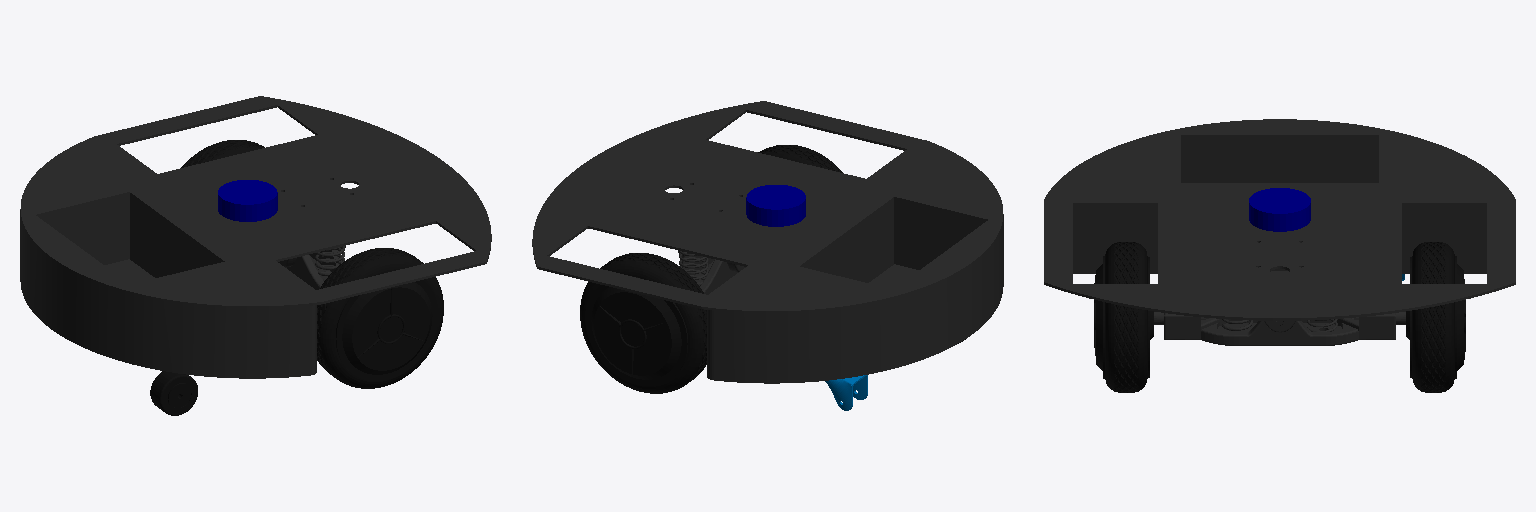
robot.urdf — Bobert:
<?xml version='1.0' ?>
<robot xmlns:xacro="http://www.ros.org/wiki/xacro" name="Bobert">

    <material name="grey">
        <color rgba="0.2 0.2 0.2 1"/>
    </material>

    <material name="green">
        <color rgba="0 0.6 0 0.7"/>
    </material>
    
    <material name="white">
        <color rgba="1 1 1 0.7"/>
    </material>

    <material name="Black">
        <color rgba="0.1 0.1 0.1 1"/>
    </material>

    
    <material name="orange">
        <color rgba="1 0.38 0.27 1"/>
    </material>

    <material name="blue">
        <color rgba="0 0 0.55 1"/>
    </material>


    <link name="base_link">
        <inertial>
            <origin xyz="-43.547e-03 -0.033e-03 -46.787e-03" rpy="0.0 0.0 0.0" />
            <mass value="11.793993" />
            <inertia ixx="1.697e-01" iyy="1.958e-01" izz="3.335e-01" ixy="49603.106e-09" iyz="-836.534e-09" ixz="-1.095e-02" />
        </inertial>
        <visual name="base_link_visual">
            <origin xyz="0.0 0.0 0.0" rpy="0.0 0.0 0.0" />
            <geometry>
                <mesh filename="package://robot_description/meshes/base_link.stl" scale="0.001 0.001 0.001" />
            </geometry>
            <material name="grey"/>
        </visual>
        <collision name="base_link_collision">
            <origin xyz="0.0 0.0 0.0" rpy="0.0 0.0 0.0" />
            <geometry>
                <mesh filename="package://robot_description/meshes/base_link.stl" scale="0.001 0.001 0.001" />
            </geometry>
        </collision>
    </link>



    <link name="wheel_left_link">
        <inertial>
            <origin xyz="0 0 -1.819e-03" rpy="0.0 -0.0 0.0" />
            <mass value="2911.821e-3" />
            <inertia ixx="3.948e-03" iyy="3.948e-03" izz="6.576e-03" ixy="-21.63e-09" iyz="0.131e-09" ixz="-0.705e-09" />
        </inertial>
        <visual name="wheel_left_visual">
            <origin xyz="0 0 0" rpy="0 0 0" />
            <geometry>
                <mesh filename="package://robot_description/meshes/wheel_left.stl" scale="0.001 0.001 0.001" />
            </geometry>
            <material name="Black"/>
        </visual>
        <collision name="wheel_left_collision">
            <origin xyz="0 0 0" rpy="0 0 0" />
            <geometry>
                <mesh filename="package://robot_description/meshes/wheel_left.stl" scale="0.001 0.001 0.001" />
            </geometry>
        </collision>
    </link>




    <link name="wheel_rigth_link">
        <inertial>
            <origin xyz="0 0 1.819e-3" rpy="0.0 -0.0 0.0" />
            <mass value="2.91188" />
            <inertia ixx="3.948e-03" iyy="3.948e-03" izz="6.576e-03" ixy="-11.421e-09" iyz="10.676e-09" ixz="9.896e-09" />
        </inertial>
        <visual name="wheel_rigth_visual">
            <origin xyz="0 0 0" rpy="0 0 0" />
            <geometry>
                <mesh filename="package://robot_description/meshes/wheel_rigth.stl" scale="0.001 0.001 0.001" />
            </geometry>
            <material name="Black"/>
        </visual>
        <collision name="wheel_rigth_collision">
            <origin xyz="0 0 0" rpy="0 0 0" />
            <geometry>
                <mesh filename="package://robot_description/meshes/wheel_rigth.stl" scale="0.001 0.001 0.001" />
            </geometry>
        </collision>
    </link>   



    
    <link name="rotatori_suport_left_link">
        <inertial>
            <origin xyz="16.428e-03 0 21.621e-03" rpy="0.0 -0.0 0.0" />
            <mass value="43.579e-03" />
            <inertia ixx="17929.773e-09" iyy="18956.841e-09" izz="23058.383e-09" ixy="-1.053e-09" iyz="0.047e-09" ixz="-5350.102e-09" />
        </inertial>
        <visual name="rotatori_suport_left_visual">
            <origin xyz="0 0 0" rpy="0 0 0" />
            <geometry>
                <mesh filename="package://robot_description/meshes/rotatory_suport_left.stl" scale="0.001 0.001 0.001" />
            </geometry>
        </visual>
        <collision name="rotatori_suport_left_collision">
            <origin xyz="0 0 0" rpy="0 0 0" />
            <geometry>
                <mesh filename="package://robot_description/meshes/rotatory_suport_left.stl" scale="0.001 0.001 0.001" />
            </geometry>
        </collision>
    </link> 



    <link name="rotatori_suport_rigth_link">
        <inertial>
            <origin xyz="16.428e-03 0 21.621e-03" rpy="0.0 0 0.0" />
            <mass value="43.579e-03" />
            <inertia ixx="17929.773e-09" iyy="18956.841e-09" izz="23058.383e-09" ixy="-1.053e-09" iyz="0.047e-09" ixz="-5350.102e-09" />
        </inertial>
        <visual name="rotatori_suport_rigth_visual">
            <origin xyz="0 0 0" rpy="0 0 0" />
            <geometry>
                <mesh filename="package://robot_description/meshes/rotatory_suport_rigth.stl" scale="0.001 0.001 0.001" />
            </geometry>
        </visual>
        <collision name="rotatori_suport_rigth_collision">
            <origin xyz="0 0 0" rpy="0 0 0" />
            <geometry>
                <mesh filename="package://robot_description/meshes/rotatory_suport_rigth.stl" scale="0.001 0.001 0.001" />
            </geometry>
        </collision>
    </link>


     <link name="road_left_link">
        <inertial>
            <origin xyz="0 0 0" rpy="0.0 -0.0 0.0" />
            <mass value="82.503e-03" />
            <inertia ixx="13380.147e-09" iyy="13380.149e-09" izz="17712.794e-09" ixy="0" iyz="0" ixz="0" />
        </inertial>
        <visual name="road_left_visual">
            <origin xyz="0 0 0" rpy="0 0 0" />
            <geometry>
                <mesh filename="package://robot_description/meshes/road_left.stl" scale="0.001 0.001 0.001" />
            </geometry>
            <material name="Black"/>
        </visual>
        <collision name="road_left_collision">
            <origin xyz="0 0 0" rpy="0 0 0" />
            <geometry>
                <mesh filename="package://robot_description/meshes/road_left.stl" scale="0.001 0.001 0.001" />
            </geometry>
        </collision>
    </link>


    <link name="road_rigth_link">
        <inertial>
            <origin xyz="0 0 0" rpy="0.0 -0.0 0.0" />
            <mass value="82.503e-03" />
            <inertia ixx="13380.147e-09" iyy="13380.149e-09" izz="17712.794e-09" ixy="0" iyz="0" ixz="0" />
        </inertial>
        <visual name="road_rigth_visual">
            <origin xyz="0 0 0" rpy="0 0 0" />
            <geometry>
                <mesh filename="package://robot_description/meshes/road_rigth.stl" scale="0.001 0.001 0.001" />
            </geometry>
            <material name="Black"/>
        </visual>
        <collision name="road_rigth_collision">
            <origin xyz="0 0 0" rpy="0 0 0" />
            <geometry>
                <mesh filename="package://robot_description/meshes/road_rigth.stl" scale="0.001 0.001 0.001" />
            </geometry>
        </collision>
    </link>


    <link name="Lidar_link">
        <inertial>
            <origin xyz="0 0 0" rpy="0.0 -0.0 0.0" />
            <mass value="0.01" />
            <inertia ixx="0.0001" iyy="0.0001" izz="0.0001" ixy="0" iyz="0" ixz="0" />
        </inertial>
        <visual name="Lidar_visual">
            <origin xyz="0 0 0" rpy="0 0 0" />
            <geometry>
                <cylinder radius="33e-03" length="21.0e-03"/>
            </geometry>
            <material name="blue"/>
        </visual>
        <collision name="Lidar_collision">
            <origin xyz="0 0 0" rpy="0 0 0" />
            <geometry>
                <cylinder radius="66e-03" length="21.0e-03"/>
            </geometry>
        </collision>
    </link>

    <link name="imu_link"/>


    <gazebo reference="base_link">
        <mu1>200</mu1>
        <mu2>200</mu2>
        <kp>1000000</kp>
        <kd>1</kd>
    </gazebo>

    <gazebo reference="wheel_left_link">
        <mu1>200</mu1>
        <mu2>200</mu2>
        <kp>1000000</kp>
        <kd>1</kd>
        <material>Gazebo/Black</material>
    </gazebo>


    <gazebo reference="wheel_rigth_link">
        <mu1>200</mu1>
        <mu2>200</mu2>
        <kp>1000000</kp>
        <kd>1</kd>
    </gazebo>

    
    <gazebo reference="rotatori_suport_left_link">
        <mu1>0.1</mu1>
        <mu2>0.1</mu2>
        <kp>1000000</kp>
        <kd>1</kd>
    </gazebo>

    <gazebo reference="rotatori_suport_rigth_link">
        <mu1>0.1</mu1>
        <mu2>0.1</mu2>
        <kp>1000000</kp>
        <kd>1</kd>
    </gazebo>


    <gazebo reference="road_left_link">
        <mu1>0.1</mu1>
        <mu2>0.1</mu2>
        <kp>1000000</kp>
        <kd>1</kd>
    </gazebo>

    <gazebo reference="road_rigth_link">
        <mu1>0.1</mu1>
        <mu2>0.1</mu2>
        <kp>1000000</kp>
        <kd>1</kd>
    </gazebo>

    <gazebo reference="Lidar_link">
        <mu1>0.1</mu1>
        <mu2>0.1</mu2>
        <kp>1000000</kp>
        <kd>1</kd>
    </gazebo>


    <joint name="base_link_wheel_left_joint" type="continuous">
        <origin xyz="69.75e-03 -163.00e-03 -83.008e-3" rpy="-1.5707963267948968 0 0" />
        <parent link="base_link" />
        <child link="wheel_left_link" />
        <axis xyz="0 0 1" />
        <dynamics damping="0.1" friction="0.1"/>
    </joint>

    <joint name="base_link_wheel_rigth_joint" type="continuous">
        <origin xyz="69.75e-03 163.00e-03 -83.008e-3" rpy="-1.5707963267948968 0 0" />
        <parent link="base_link" />
        <child link="wheel_rigth_link" />
        <axis xyz="0 0 1" />
        <dynamics damping="0.1" friction="0.1"/>
    </joint>

    <joint name="base_link_rotatori_suport_left_joint" type="continuous">
        <origin xyz="-135e-03 -115e-03 -93e-03" rpy="0 3.141592653589793 0" />
        <parent link="base_link" />
        <child link="rotatori_suport_left_link" />
        <axis xyz="0 0 1" />
    </joint>

    <joint name="base_link_rotatori_suport_rigth_joint" type="continuous">
        <origin xyz="-135e-03 115e-03 -93e-03" rpy="0 3.141592653589793 0" />
        <parent link="base_link" />
        <child link="rotatori_suport_rigth_link" />
        <axis xyz="0 0 1" />
    </joint>

    <joint name="base_link_road_left_joint" type="continuous">
        <origin xyz="25e-03 0 45.5e-03" rpy="-1.5707963267948968 3.141592653589793 0" />
        <parent link="rotatori_suport_left_link" />
        <child link="road_left_link" />
        <axis xyz="0 0 1" />
    </joint>

    <joint name="base_link_road_rigth_joint" type="continuous">
        <origin xyz="25e-03 0 45.5e-03" rpy="-1.5707963267948968 3.141592653589793 0" />
        <parent link="rotatori_suport_rigth_link" />
        <child link="road_rigth_link" />
        <axis xyz="0 0 1" />
    </joint>

    <joint name="base_link_Lidar_joint" type="fixed">
        <origin xyz="0 0 10.5e-03" rpy="0 0 0" />
        <parent link="base_link" />
        <child link="Lidar_link" />
        <axis xyz="0 0 1" />
    </joint>

    <joint name="imu_joint" type="fixed">
        <origin xyz="0.0 0 0.0" rpy="0 0 0" />
        <parent link="base_link" />
        <child link="imu_link" />
        <axis xyz="1 0 0" />
    </joint>

    <gazebo>
        <plugin name="two_wheeled_robot_diff_drive" filename="libgazebo_ros_diff_drive.so">
    
        <update_rate>100</update_rate>
        
        <!-- wheels -->
        <left_joint>base_link_wheel_rigth_joint</left_joint>
        <right_joint>base_link_wheel_left_joint</right_joint>
    
        <!-- kinematics -->
        <wheel_separation>0.326</wheel_separation>
        <wheel_diameter>0.16</wheel_diameter>
    
        <!-- limits -->
        <max_wheel_torque>40</max_wheel_torque>
        <max_wheel_acceleration>20.0</max_wheel_acceleration>
    
        <!-- Receive velocity commands on this ROS topic -->
        <command_topic>cmd_vel</command_topic>
    
        <!-- output -->
        <!-- When false, publish no wheel odometry data to a ROS topic -->
        <publish_odom>true</publish_odom>
    
        <!-- When true, publish coordinate transform from odom to base_footprint -->
        <!-- I usually use the robot_localization package to publish this transform -->  
        <publish_odom_tf>true</publish_odom_tf>
        
        <!-- When true, publish coordinate transform from base_link to the wheels -->
        <!-- The robot_state_publisher package is often used to publish this transform -->  
        <publish_wheel_tf>true</publish_wheel_tf>
    
        <odometry_topic>odom</odometry_topic>
        <odometry_frame>odom_link</odometry_frame>
        <robot_base_frame>base_link</robot_base_frame>
    
        <odometry_source>1</odometry_source>
        <ros>
            <remapping>odom:=wheel/odometry</remapping>
        </ros>
        </plugin>
    </gazebo>

    <gazebo>
        <plugin name="gazebo_ros_joint_state_publisher"
            filename="libgazebo_ros_joint_state_publisher.so">
            <update_rate>100</update_rate>
            <joint_name>base_link_wheel_left_joint</joint_name>
            <joint_name>base_link_wheel_rigth_joint</joint_name>           
            <joint_name>base_link_rotatori_suport_left_joint</joint_name>
            <joint_name>base_link_rotatori_suport_rigth_joint</joint_name>
            <joint_name>base_link_road_left_joint</joint_name>
            <joint_name>base_link_road_rigth_joint</joint_name>
        </plugin>
    </gazebo>


    <gazebo reference="Lidar_link">
        <sensor name="lidar" type="ray">
        <always_on>true</always_on>
        <visualize>true</visualize>
        <update_rate>20</update_rate>
        <ray>
            <scan>
            <horizontal>
                <samples>120</samples>
                <resolution>1.000000</resolution>
                <min_angle>-1.57079</min_angle>
                <max_angle>1.57079</max_angle>
            </horizontal>
            </scan>
            <range>
            <min>0.07</min>
            <max>5.0</max>
            <resolution>0.015</resolution>
            </range>
            <noise>
            <type>gaussian</type>
            <mean>0.0</mean>
            <stddev>0.01</stddev>
            </noise>
        </ray>
        <plugin name="scan" filename="libgazebo_ros_ray_sensor.so">
            <ros>
            <remapping>~/out:=laser_scan</remapping>
            </ros>
            <output_type>sensor_msgs/LaserScan</output_type>
            <frame_name>Lidar_link</frame_name>
        </plugin>
        </sensor>
    </gazebo>


    <gazebo reference="imu_link">
        <gravity>true</gravity>
        <sensor name="imu_sensor" type="imu">
        <always_on>true</always_on>
        <update_rate>100</update_rate>
        <visualize>true</visualize>
        <topic>imu_data</topic>
        <plugin filename="libgazebo_ros_imu_sensor.so" name="imu_plugin">
            <topicName>imu_data</topicName>
            <bodyName>imu_link</bodyName>
            <updateRateHZ>10.0</updateRateHZ>
            <gaussianNoise>0.005</gaussianNoise>
            <xyzOffset>0 0 0</xyzOffset>
            <rpyOffset>0 0 0</rpyOffset>
            <frameName>imu_link</frameName>
            <initialOrientationAsReference>true</initialOrientationAsReference>
        </plugin>
        <pose>0 0 0 0 0 0</pose>
        </sensor>
    </gazebo>

</robot>

--- Render facts (derived) ---
Views: 3 orthographic renders of the robot side by side, from view 1: azimuth 30°, elevation 25°; view 2: azimuth 150°, elevation 25°; view 3: azimuth 270°, elevation 25°.
Robot: Bobert — 9 links, 8 joints (6 continuous, 2 fixed); root link base_link; default pose: all joints at 0.
Visible links, largest first — view 1: base_link, wheel_left_link, Lidar_link, road_left_link, wheel_rigth_link; view 2: base_link, wheel_rigth_link, Lidar_link, wheel_left_link, rotatori_suport_rigth_link; view 3: base_link, wheel_rigth_link, wheel_left_link, Lidar_link.
Boxes of the visible links, bbox=[...] form: base_link: bbox=[20, 96, 491, 378]; wheel_left_link: bbox=[317, 248, 443, 388]; Lidar_link: bbox=[218, 180, 277, 221]; road_left_link: bbox=[150, 371, 197, 415]; wheel_rigth_link: bbox=[181, 140, 264, 167]; base_link: bbox=[532, 101, 1003, 383]; wheel_rigth_link: bbox=[580, 253, 706, 393]; Lidar_link: bbox=[746, 185, 805, 226]; wheel_left_link: bbox=[758, 145, 842, 172]; rotatori_suport_rigth_link: bbox=[825, 375, 867, 410]; base_link: bbox=[1044, 119, 1515, 345]; wheel_rigth_link: bbox=[1406, 242, 1465, 392]; wheel_left_link: bbox=[1094, 242, 1153, 392]; Lidar_link: bbox=[1249, 188, 1310, 231].
Bounding box of the posed robot: 0.4999 × 0.5 × 0.184 m (x, y, z).
5 mesh visuals loaded from 7 distinct referenced files (5 binary STL); not drawn: 2 (reference not matched to a file when rendering).
